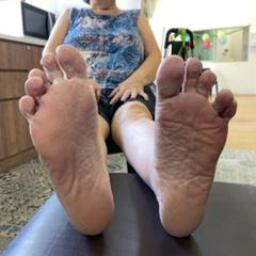Plantar View -Both Feet-: (8, 38, 248, 251)
